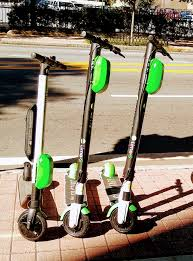kick_board: (64, 31, 124, 237), (18, 53, 68, 241)
kick_body: (65, 178, 86, 207), (19, 176, 35, 205)
kick_handler: (82, 30, 125, 57), (145, 34, 173, 60), (32, 52, 67, 69)
kick_neck: (28, 77, 49, 176)
kick_wheel: (17, 209, 47, 240), (110, 202, 136, 233), (62, 206, 88, 236)
